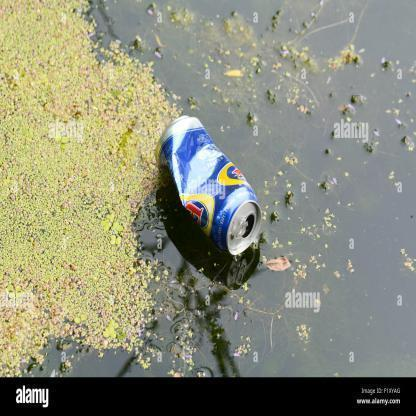can: (155, 114, 262, 257)
